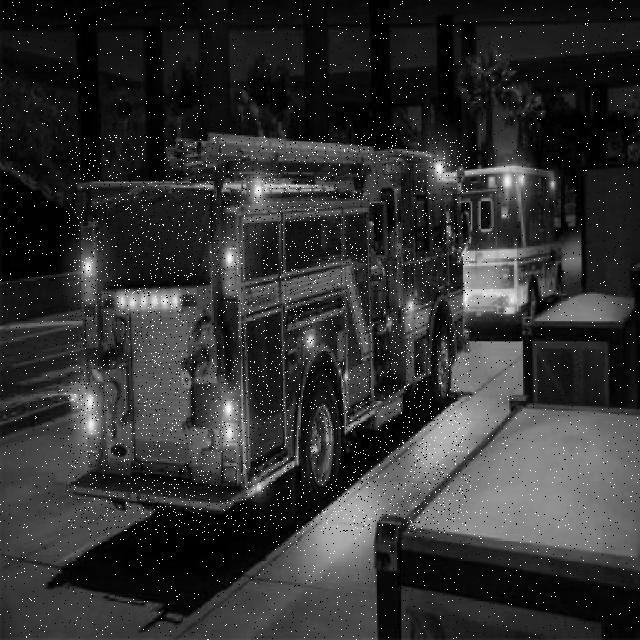Fire Truck: (67, 134, 471, 534)
